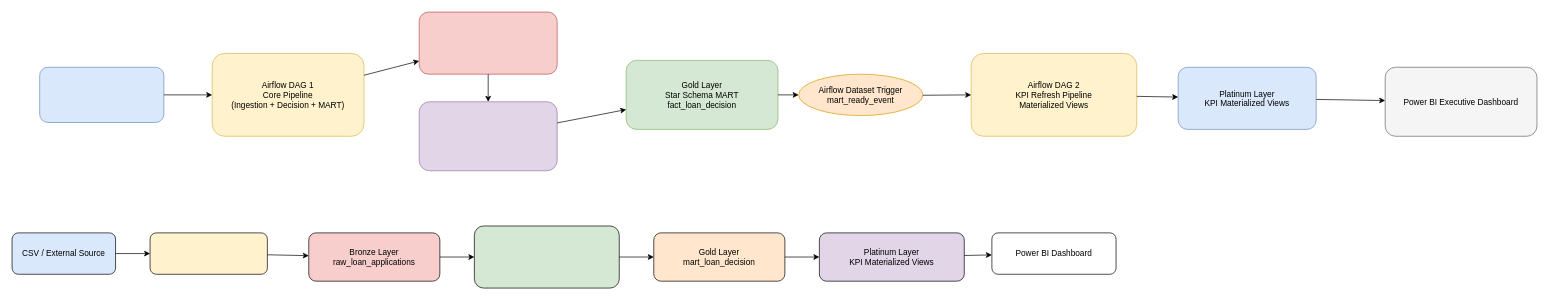
Image size: 1549x300. Some labels were removed from this diagram. The shapes that lost their labels are listed below. From the top down, each one's centre as x and y in pixels, then its label:
[487,42]: Bronze Layer Raw Tables Postgres
[101,94]: CSV Loan Applications (Source System)
[487,136]: Decision Engine Python Rule Logic SCD2 Fact Build
[208,253]: Airflow Orchestration
[546,256]: Silver Layer Decision Engine SCD2 Fact + Dimensions
